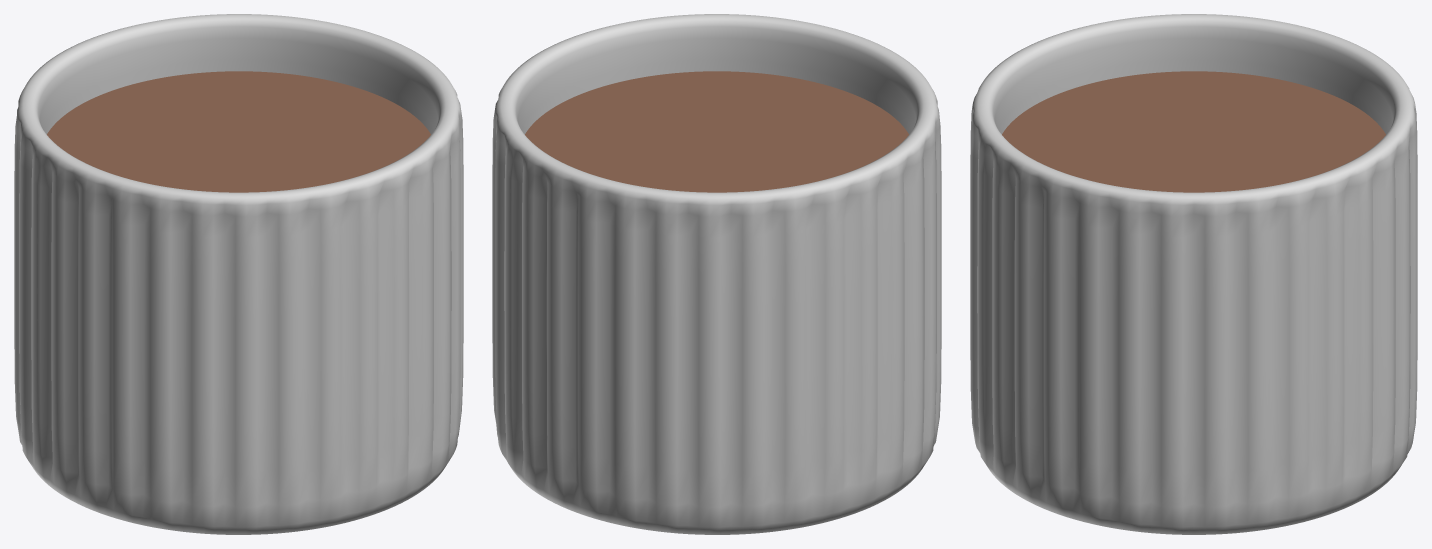
File: fluted_white.glb
3 views of the same model, side by side, from view 1: azimuth 30°, elevation 25°; view 2: azimuth 150°, elevation 25°; view 3: azimuth 270°, elevation 25° (orthographic).
Parts seen in each view (by area): view 1: Circle.011, Circle.010; view 2: Circle.011, Circle.010; view 3: Circle.011, Circle.010.
Part boxes in pixels (left/top/right/bottom): Circle.011: left=14, top=14, right=463, bottom=534; Circle.010: left=47, top=71, right=430, bottom=192; Circle.011: left=492, top=14, right=941, bottom=534; Circle.010: left=525, top=71, right=908, bottom=192; Circle.011: left=970, top=14, right=1417, bottom=534; Circle.010: left=1002, top=71, right=1385, bottom=192.
Bounding box in the file's own units: 11.66 × 9.97 × 11.66.
